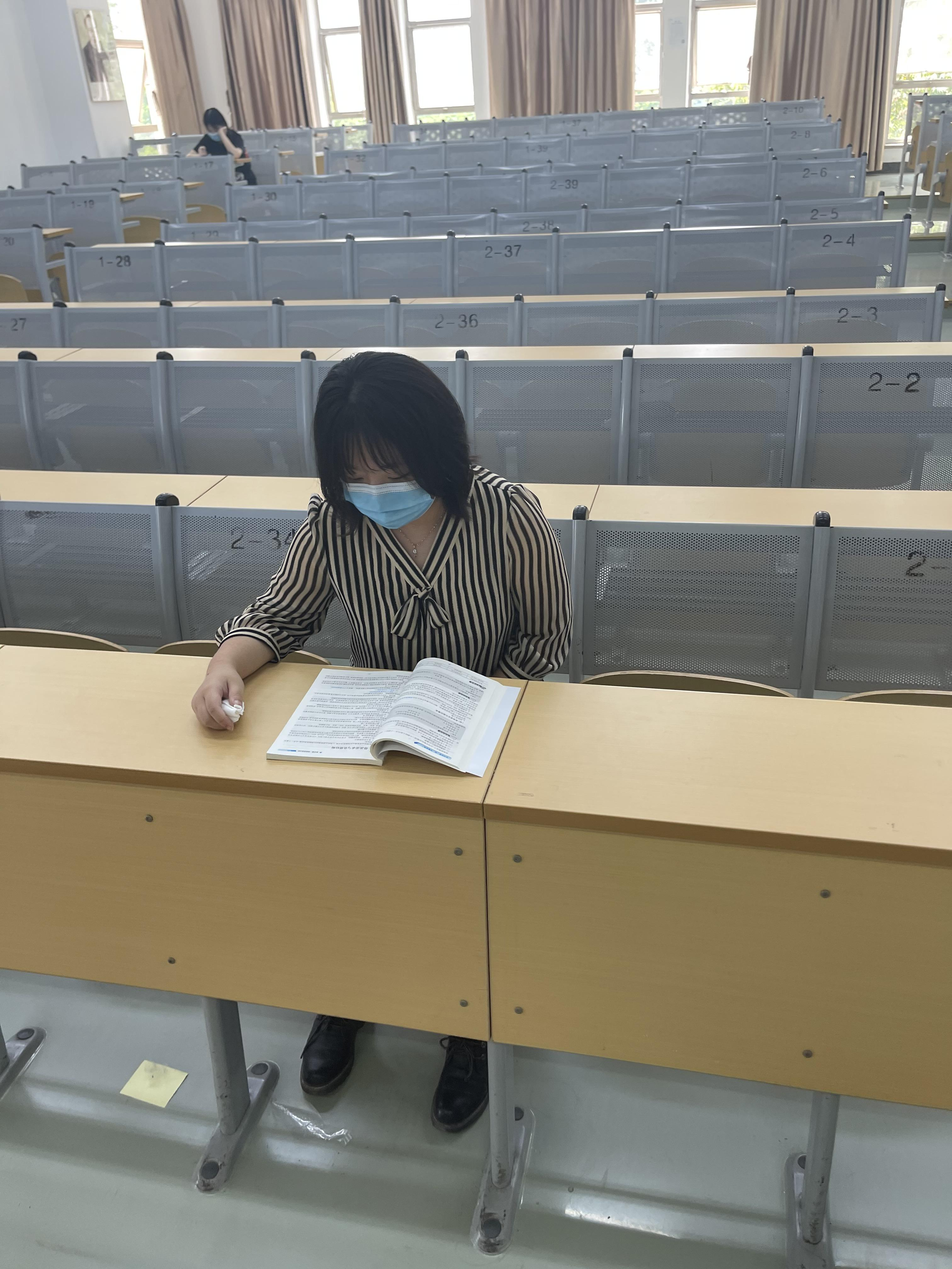study: (194, 357, 574, 762)
